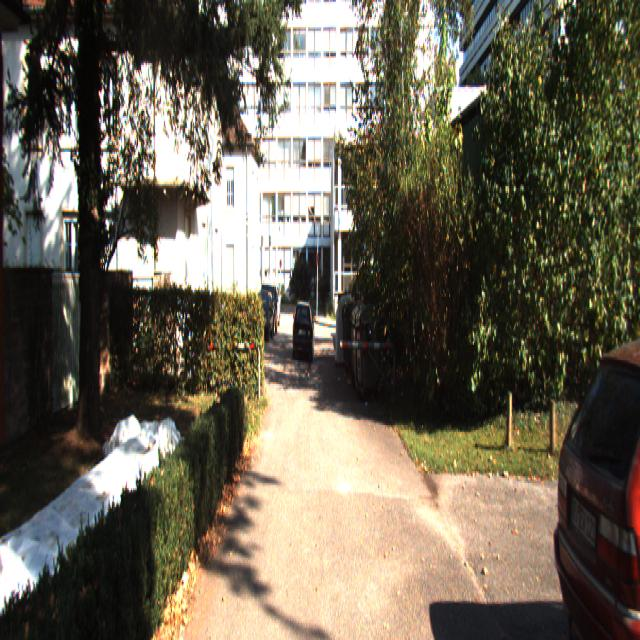Car: (547, 310, 640, 638), (293, 300, 315, 360), (251, 290, 274, 340)
